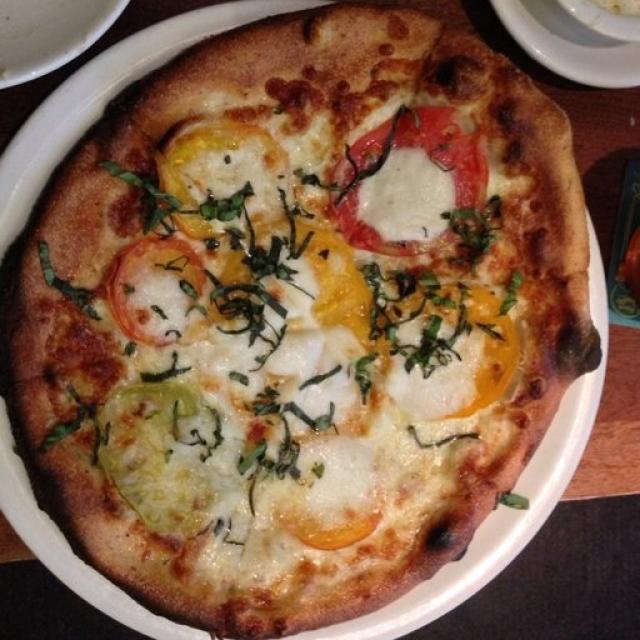Basil: (232, 371, 330, 476), (359, 267, 455, 372), (100, 163, 253, 220), (219, 228, 281, 349), (346, 109, 416, 190), (38, 240, 98, 318), (44, 398, 97, 454), (405, 422, 480, 448), (352, 350, 383, 408), (495, 490, 531, 510)
Pizza: (0, 4, 602, 640)
Tomato: (332, 108, 488, 256), (101, 387, 213, 530), (398, 286, 520, 416), (158, 123, 290, 227), (108, 234, 204, 344), (275, 488, 386, 542)
